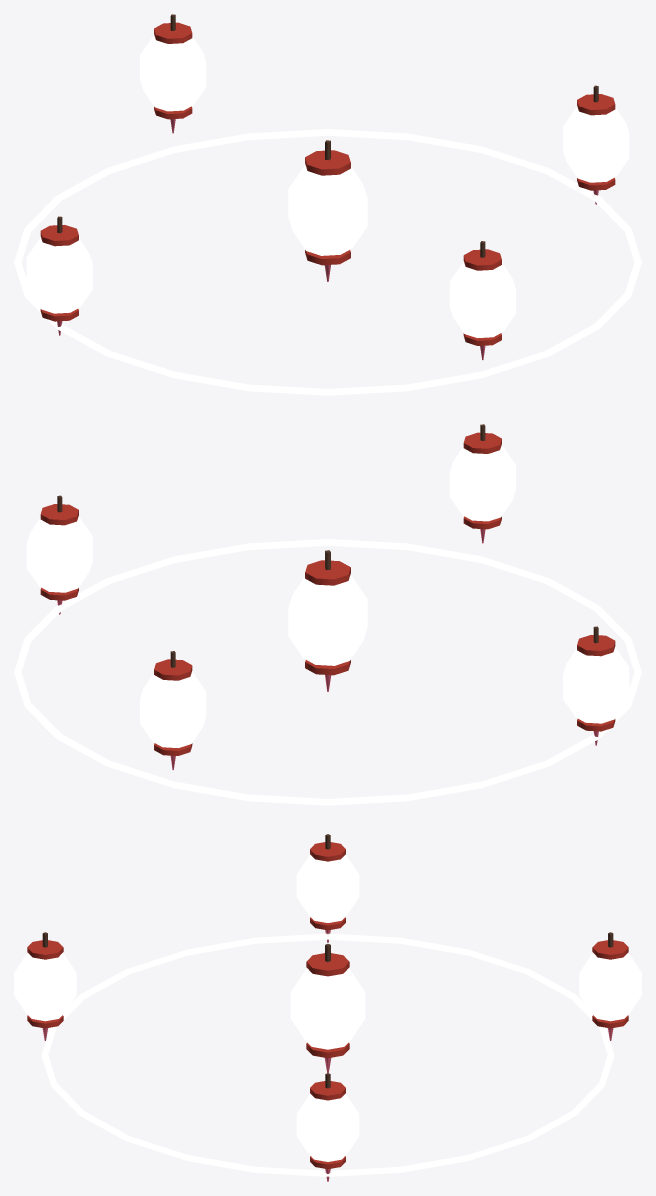
The model's file is umeko_p0.glb.
3 renders of one model, top to bottom at view 1: azimuth 30°, elevation 25°; view 2: azimuth 150°, elevation 25°; view 3: azimuth 270°, elevation 25°, orthographic. The views are drawn at different scales.
Visible parts, largest first — view 1: p0_lanterns_glow, p0_lantern_glow, p0_lanterns_body, p0_lantern_body; view 2: p0_lanterns_glow, p0_lantern_glow, p0_lanterns_body, p0_lantern_body; view 3: p0_lanterns_glow, p0_lantern_glow, p0_lanterns_body, p0_lantern_body.
Part boxes in pixels (bbox=[...]): p0_lanterns_glow: bbox=[14, 36, 641, 395]; p0_lantern_glow: bbox=[288, 166, 367, 255]; p0_lanterns_body: bbox=[40, 14, 615, 359]; p0_lantern_body: bbox=[305, 140, 350, 281]; p0_lanterns_glow: bbox=[14, 446, 641, 805]; p0_lantern_glow: bbox=[288, 576, 367, 665]; p0_lanterns_body: bbox=[40, 424, 615, 769]; p0_lantern_body: bbox=[305, 550, 350, 691]; p0_lanterns_glow: bbox=[14, 855, 641, 1176]; p0_lantern_glow: bbox=[290, 968, 365, 1049]; p0_lanterns_body: bbox=[27, 834, 628, 1181]; p0_lantern_body: bbox=[306, 944, 349, 1072].
Size of the model in its own units: 0.7999 by 0.1964 by 0.7999.
